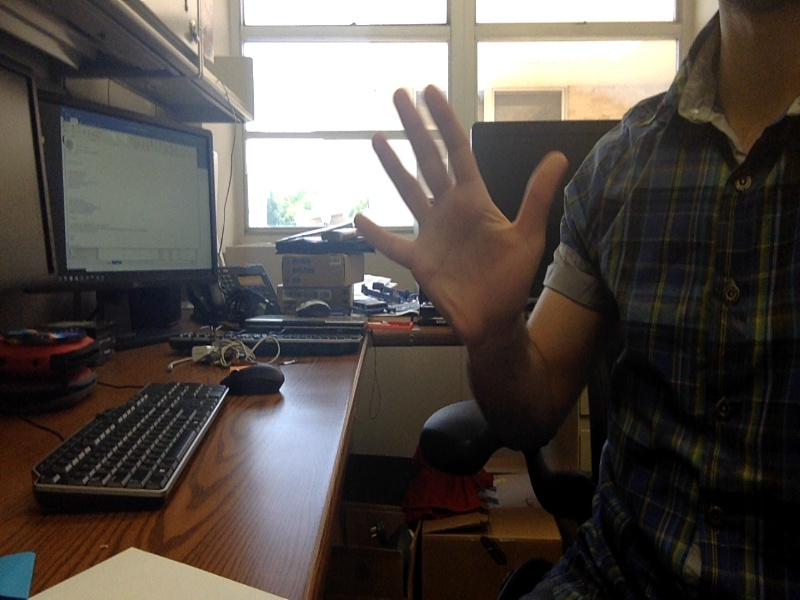5-hand: (354, 84, 568, 341)
